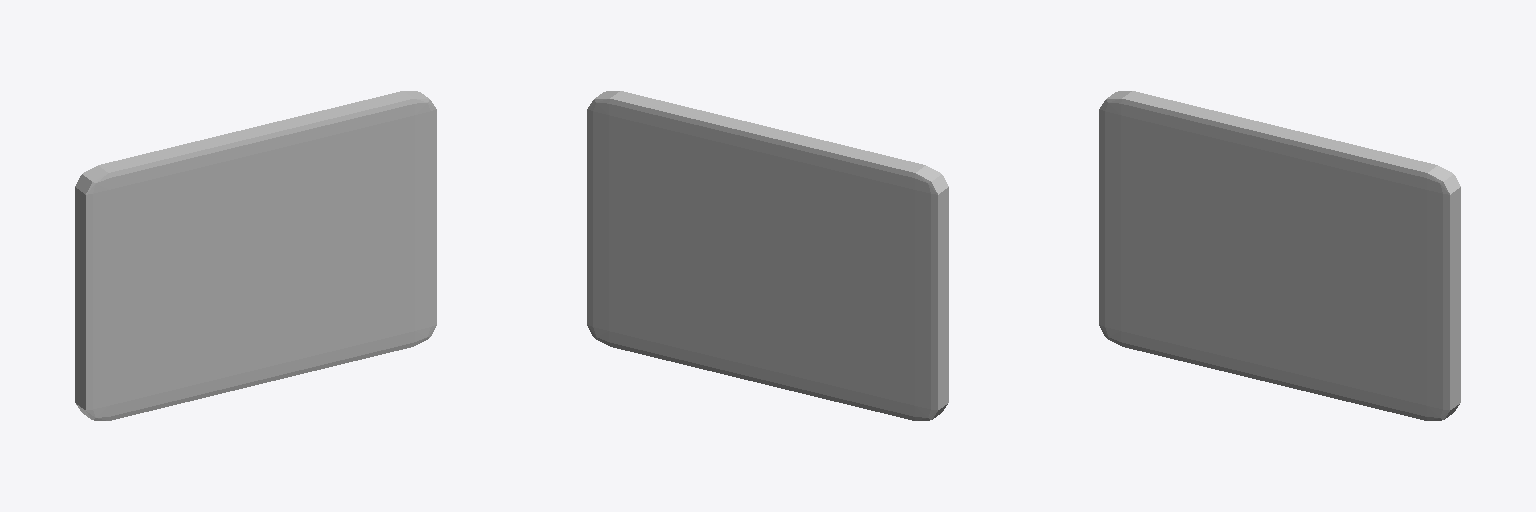
Rendered from speed_boost_stand.obj.
The picture shows the model from 3 angles: view 1: azimuth 30°, elevation 25°; view 2: azimuth 150°, elevation 25°; view 3: azimuth 330°, elevation 25°; orthographic projection.
Parts seen in each view (by area): view 1: Cube_Cube.002; view 2: Cube_Cube.002; view 3: Cube_Cube.002.
Boxes of the visible parts, <box> form: Cube_Cube.002: <box>75,91,436,420</box>; Cube_Cube.002: <box>587,91,948,420</box>; Cube_Cube.002: <box>1099,91,1460,420</box>.
Size of the model in its own units: 3.68 by 2.49 by 0.2234.